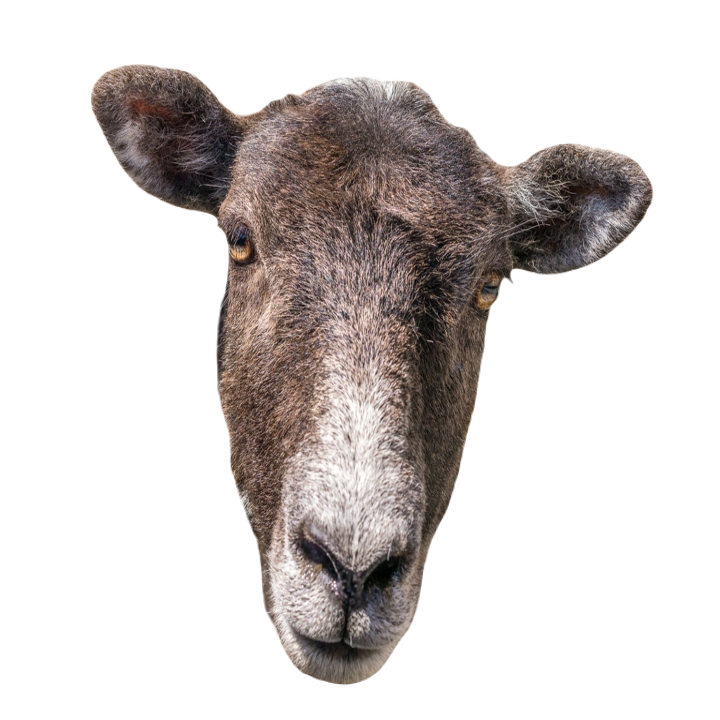Sheep: (85, 61, 658, 688)
